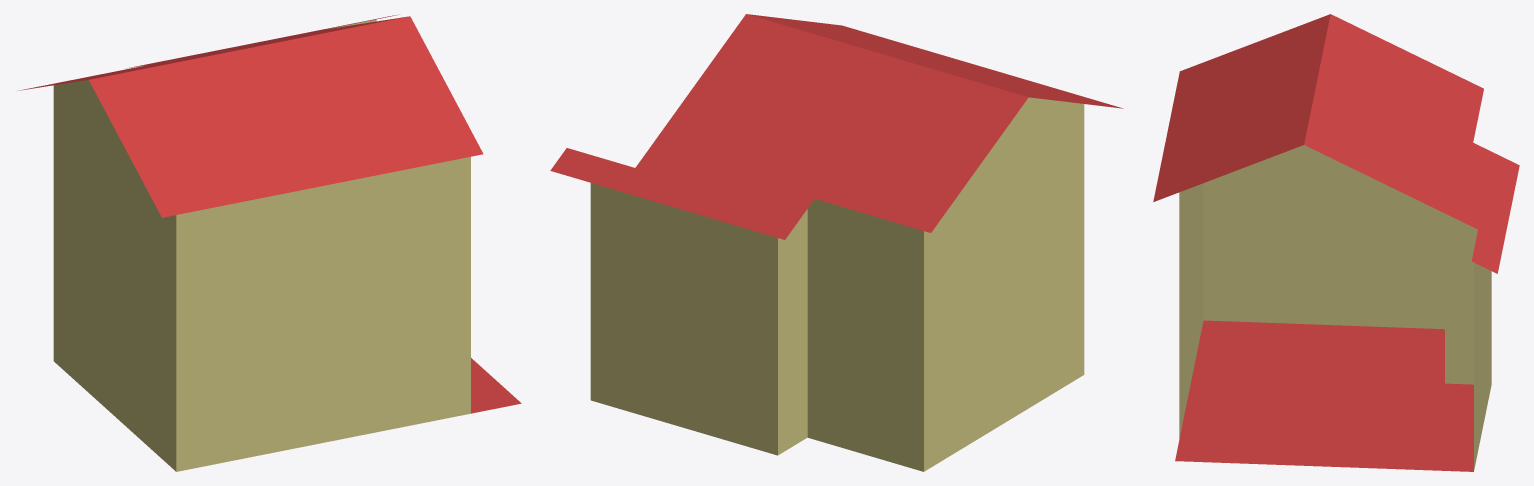
3 renders of one model, left to right at view 1: azimuth 30°, elevation 25°; view 2: azimuth 150°, elevation 25°; view 3: azimuth 270°, elevation 25°, orthographic. The views are drawn at different scales.
Bounding box in the file's own units: 15.89 × 14.03 × 12.67.
